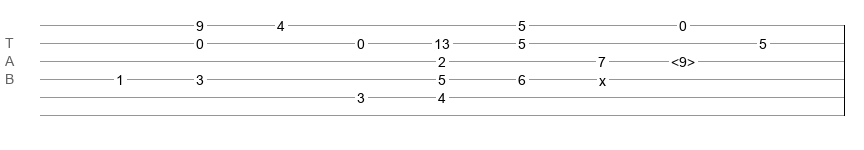0: (196, 36, 204, 46), (357, 36, 365, 46), (679, 18, 687, 28)
1: (116, 72, 124, 82)
13: (434, 36, 450, 46)
2: (438, 54, 446, 64)
3: (196, 72, 204, 82), (357, 90, 365, 100)
4: (277, 18, 285, 28), (438, 90, 446, 100)
5: (438, 72, 446, 82), (518, 36, 526, 46), (518, 18, 526, 28), (759, 36, 767, 46)
6: (518, 72, 526, 82)
7: (598, 54, 606, 64)
9: (196, 18, 204, 28)
harmonic: (671, 54, 695, 64)
x: (599, 73, 606, 81)
